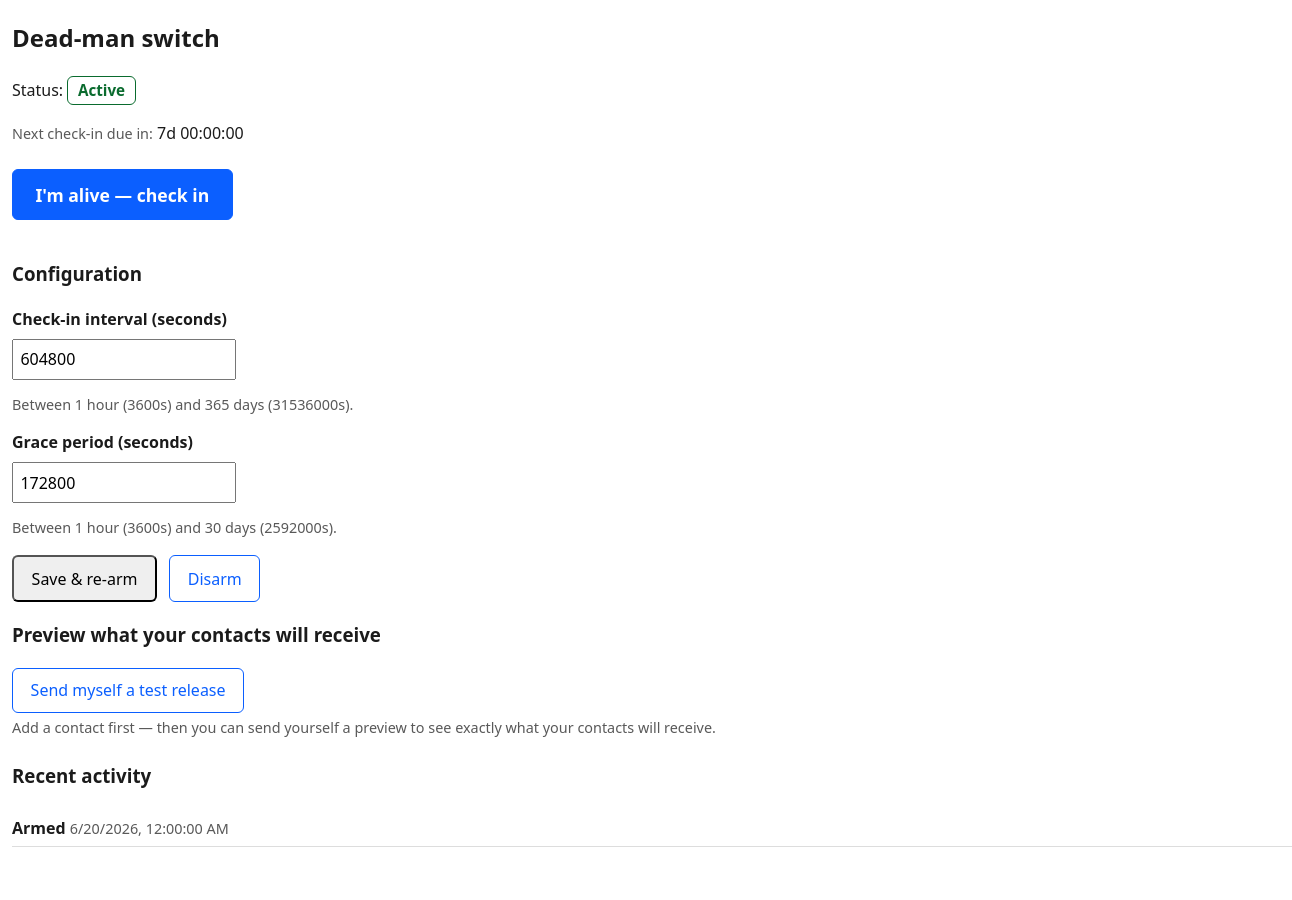
it: DeadmanDashboard — view + arm + check-in (US1) › checks in via the check-in button and resets the countdown
Expected: the text "Active" is shown, [67, 76, 136, 105]
Click the button "I'm alive — check in" at (122, 195), box [12, 169, 233, 220]
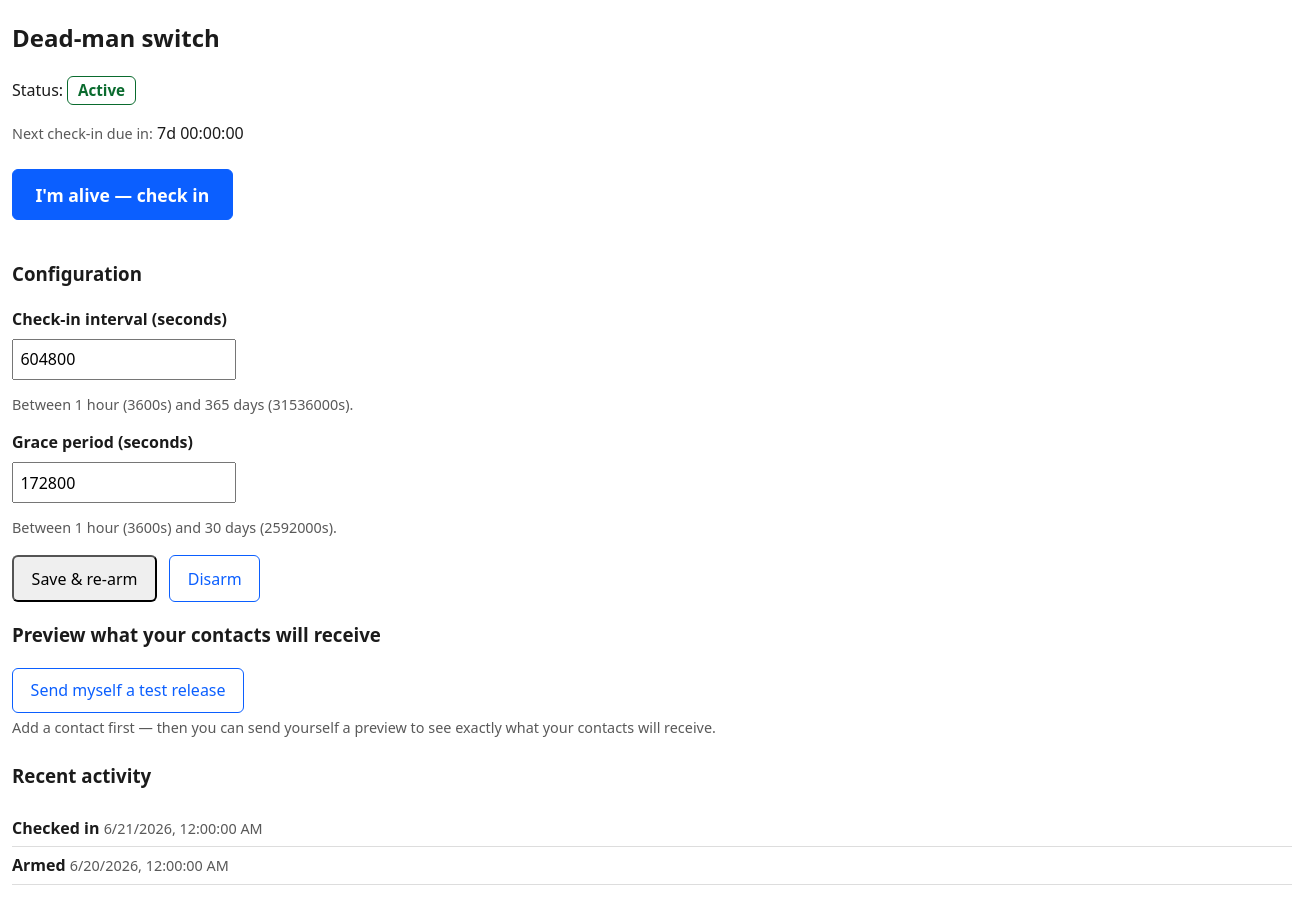
Expected: the text "Checked in" is shown, [12, 817, 100, 839]
